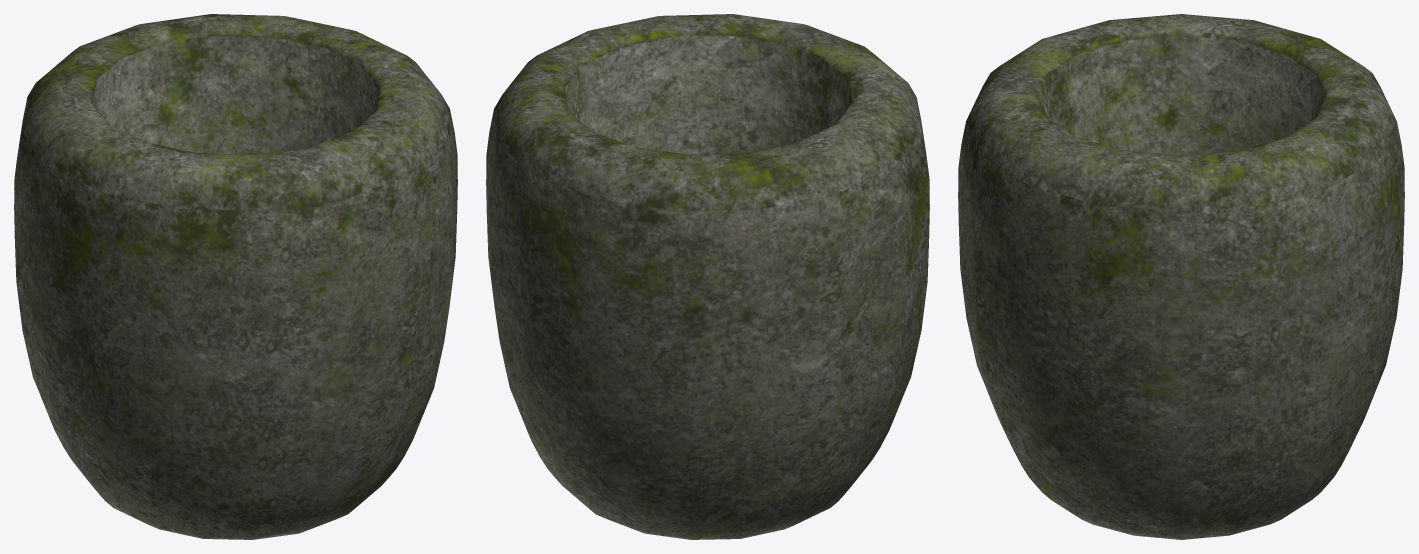
Rendered from Cauldron.fbx.
3 views of the same model, side by side, from view 1: azimuth 30°, elevation 25°; view 2: azimuth 150°, elevation 25°; view 3: azimuth 270°, elevation 25° (orthographic).
Visible parts, largest first — view 1: Cauldron; view 2: Cauldron; view 3: Cauldron.
Boxes of the visible parts, left/top/right/bottom form: Cauldron: left=14, top=14, right=457, bottom=539; Cauldron: left=486, top=14, right=929, bottom=539; Cauldron: left=958, top=14, right=1404, bottom=539.
Size of the model in its own units: 0.7096 by 0.7053 by 0.7096.
